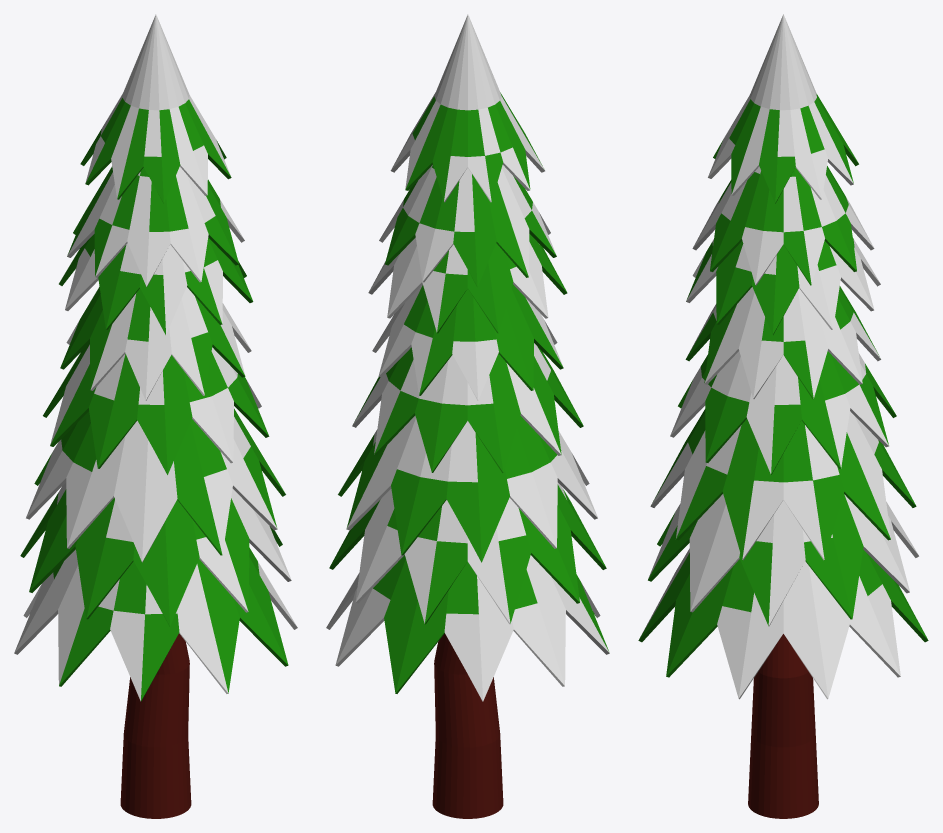
Rendered from Xmas_tree.fbx.
The picture shows the model from 3 angles, left to right: view 1: azimuth 30°, elevation 25°; view 2: azimuth 150°, elevation 25°; view 3: azimuth 270°, elevation 25°; orthographic projection.
Parts seen in each view (by area): view 1: Leaf, Stem; view 2: Leaf, Stem; view 3: Leaf, Stem.
Boxes of the visible parts, bbox=[...] form: Leaf: bbox=[14, 14, 297, 701]; Stem: bbox=[120, 633, 191, 818]; Leaf: bbox=[326, 14, 609, 701]; Stem: bbox=[432, 633, 503, 818]; Leaf: bbox=[638, 14, 928, 699]; Stem: bbox=[748, 634, 818, 818].
Bounding box in the file's own units: 391 × 1235 × 411.
